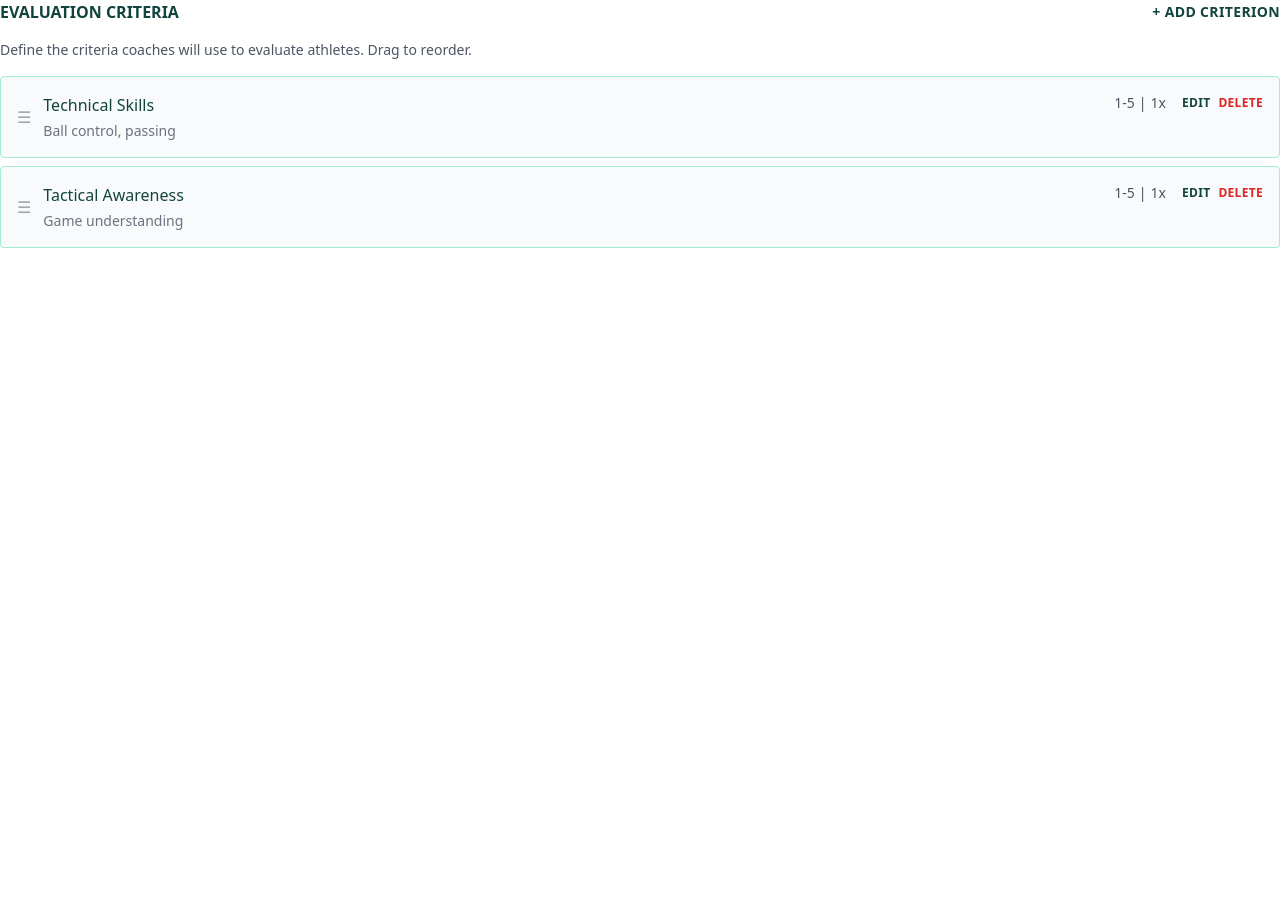
Scenario: EvaluationCriteriaBuilder › opens add modal when Add Criterion clicked
Click the button "+ Add Criterion" at coordinates (1216, 12), box [1152, 2, 1279, 22]
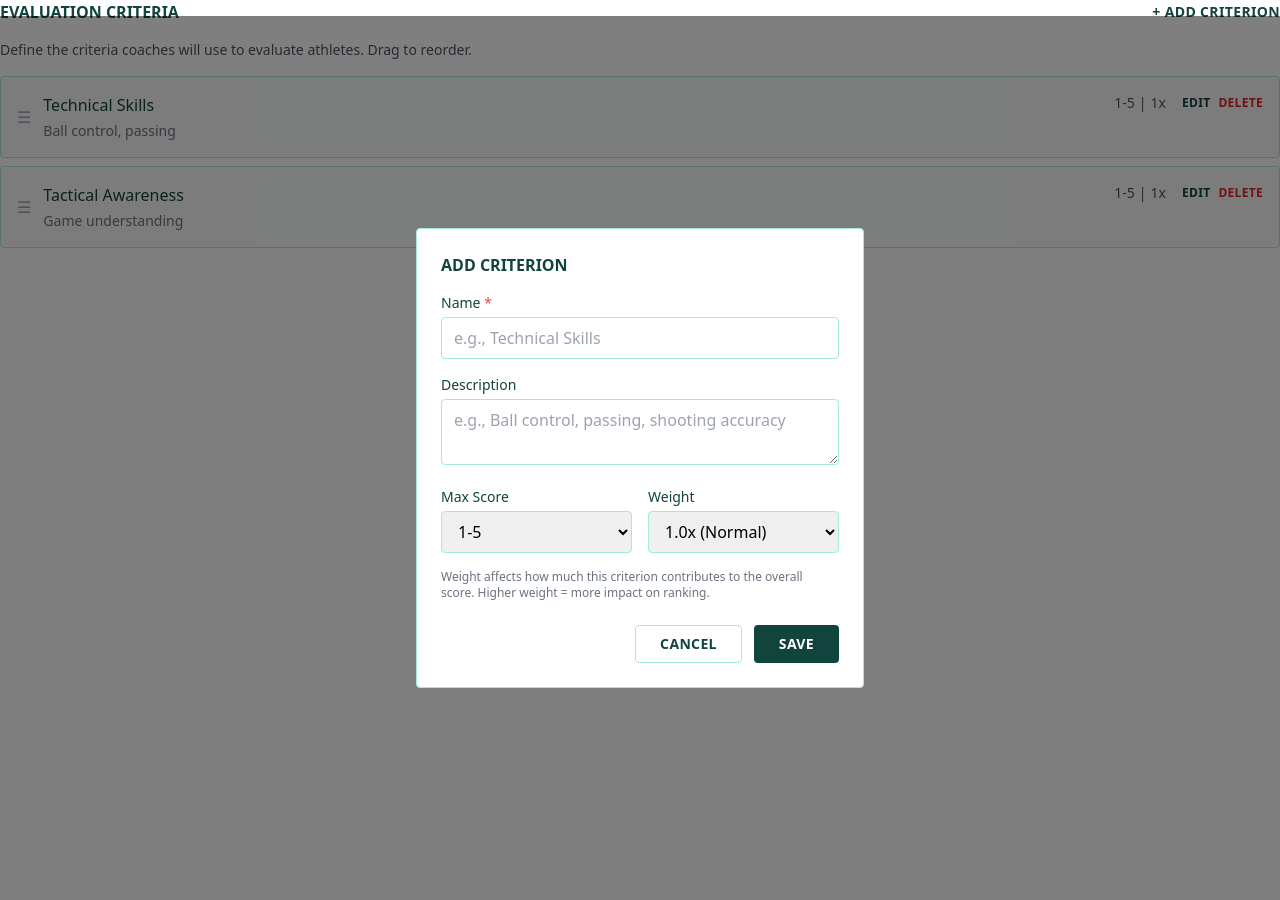
Expected: the heading "Add Criterion" is shown, [441, 254, 568, 276]
